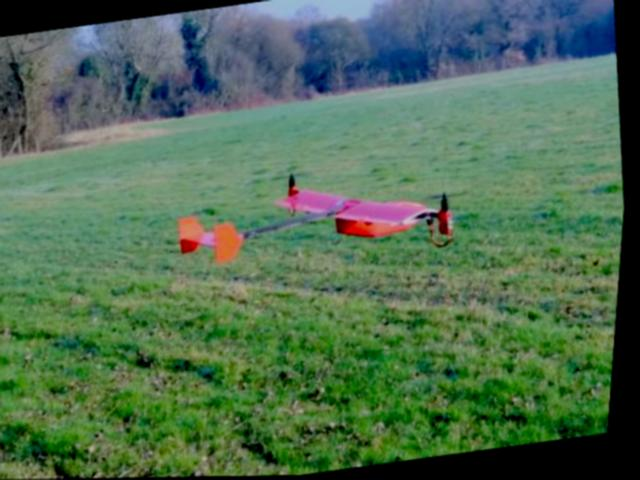uav: (163, 146, 474, 303)
